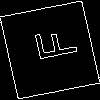F: (25, 25, 78, 65)
